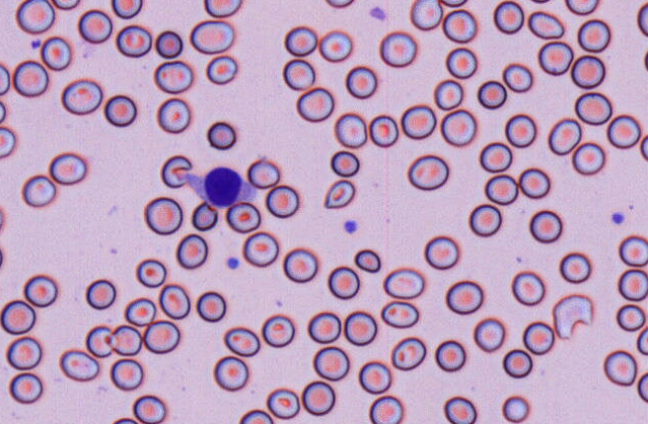LYM: (200, 163, 246, 209)
PLT: (344, 219, 360, 235), (227, 257, 240, 271), (610, 211, 625, 223), (31, 38, 43, 50)
RBC: (189, 19, 234, 54), (61, 78, 102, 115), (144, 196, 182, 235), (407, 154, 448, 190), (379, 30, 416, 67), (296, 86, 334, 122), (12, 59, 48, 97), (440, 108, 476, 146), (15, 0, 55, 34), (312, 345, 349, 381), (242, 231, 279, 267), (153, 60, 193, 93), (383, 267, 424, 299), (445, 280, 483, 314), (574, 91, 612, 125), (59, 349, 99, 381), (400, 104, 436, 139), (537, 40, 573, 75), (213, 355, 248, 391), (143, 319, 180, 353), (548, 117, 581, 155), (0, 299, 35, 334), (282, 247, 317, 282), (390, 336, 426, 370), (603, 350, 637, 386), (156, 97, 190, 133), (115, 24, 152, 57), (6, 336, 41, 370), (77, 9, 112, 43), (343, 310, 377, 345), (511, 270, 545, 305), (424, 235, 459, 269), (301, 380, 335, 415), (606, 114, 641, 148), (570, 54, 605, 88), (334, 112, 367, 148), (175, 233, 208, 269), (49, 152, 86, 184), (571, 141, 605, 175), (265, 184, 299, 218), (442, 9, 476, 43), (261, 313, 295, 347), (21, 174, 56, 207), (225, 201, 261, 233), (158, 283, 190, 319), (23, 274, 57, 307), (529, 209, 562, 243), (358, 360, 391, 394), (577, 18, 610, 52), (318, 29, 352, 62), (473, 317, 505, 352), (223, 326, 260, 356), (468, 203, 501, 236), (8, 372, 42, 404), (109, 358, 143, 390), (327, 265, 359, 299), (504, 113, 536, 147), (307, 311, 341, 343), (266, 387, 300, 419), (527, 10, 564, 39), (380, 300, 418, 328), (109, 324, 142, 356), (282, 58, 315, 90), (522, 321, 554, 354), (345, 65, 377, 98), (104, 94, 136, 127), (40, 36, 71, 70), (484, 173, 518, 204), (493, 0, 524, 34), (559, 251, 591, 283), (247, 157, 280, 188), (434, 339, 465, 372), (479, 141, 512, 172), (284, 25, 317, 56), (518, 167, 550, 198), (445, 47, 477, 78), (409, 0, 442, 30), (617, 268, 647, 301), (368, 114, 398, 147), (368, 395, 403, 423), (85, 278, 116, 309), (196, 290, 226, 322), (132, 394, 165, 423), (433, 79, 463, 110), (124, 297, 156, 326), (205, 55, 237, 84), (323, 179, 355, 208), (618, 234, 647, 266), (443, 395, 476, 423), (502, 348, 532, 378), (502, 62, 532, 92), (135, 258, 166, 287), (206, 121, 236, 150), (477, 80, 506, 109), (616, 303, 645, 331), (191, 201, 218, 231), (155, 30, 183, 58), (501, 395, 529, 423), (330, 150, 359, 177), (203, 0, 242, 17), (354, 248, 381, 272), (111, 0, 142, 19), (564, 0, 599, 15), (238, 408, 273, 423), (0, 126, 15, 157), (637, 2, 647, 36), (0, 63, 10, 95), (636, 326, 647, 355), (637, 372, 647, 402), (51, 0, 80, 9), (325, 0, 354, 8), (440, 0, 467, 7), (640, 134, 647, 160), (111, 417, 138, 423), (0, 100, 6, 123), (643, 47, 648, 71), (0, 204, 4, 233), (529, 0, 551, 4), (0, 246, 3, 269)
Schistocyte: (550, 293, 596, 341), (160, 155, 195, 188), (85, 325, 112, 357)
